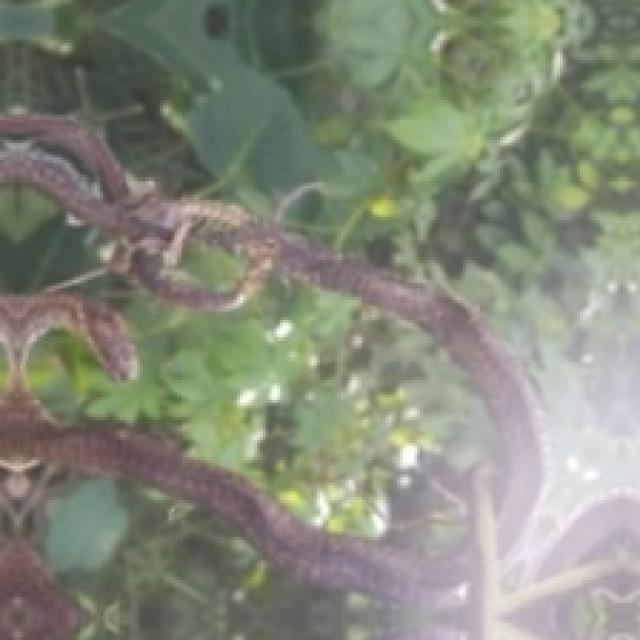reinhardts lined snake: (0, 114, 637, 637), (0, 114, 546, 637), (0, 540, 80, 637)
